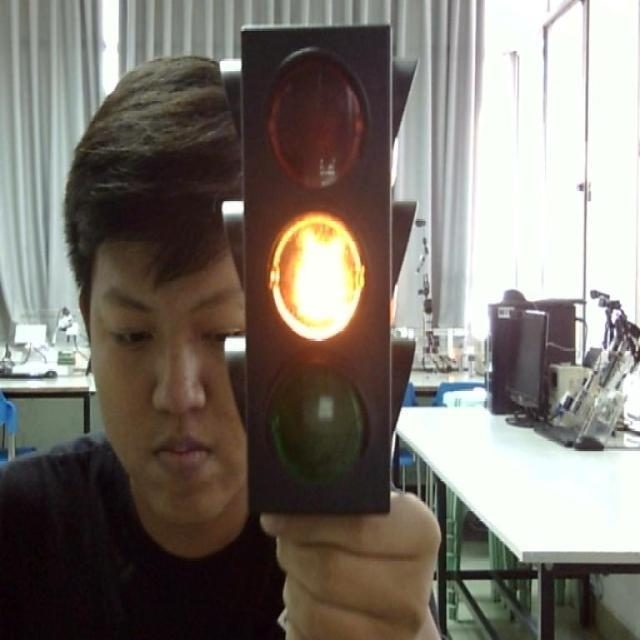yellow_light: (239, 23, 408, 510)
